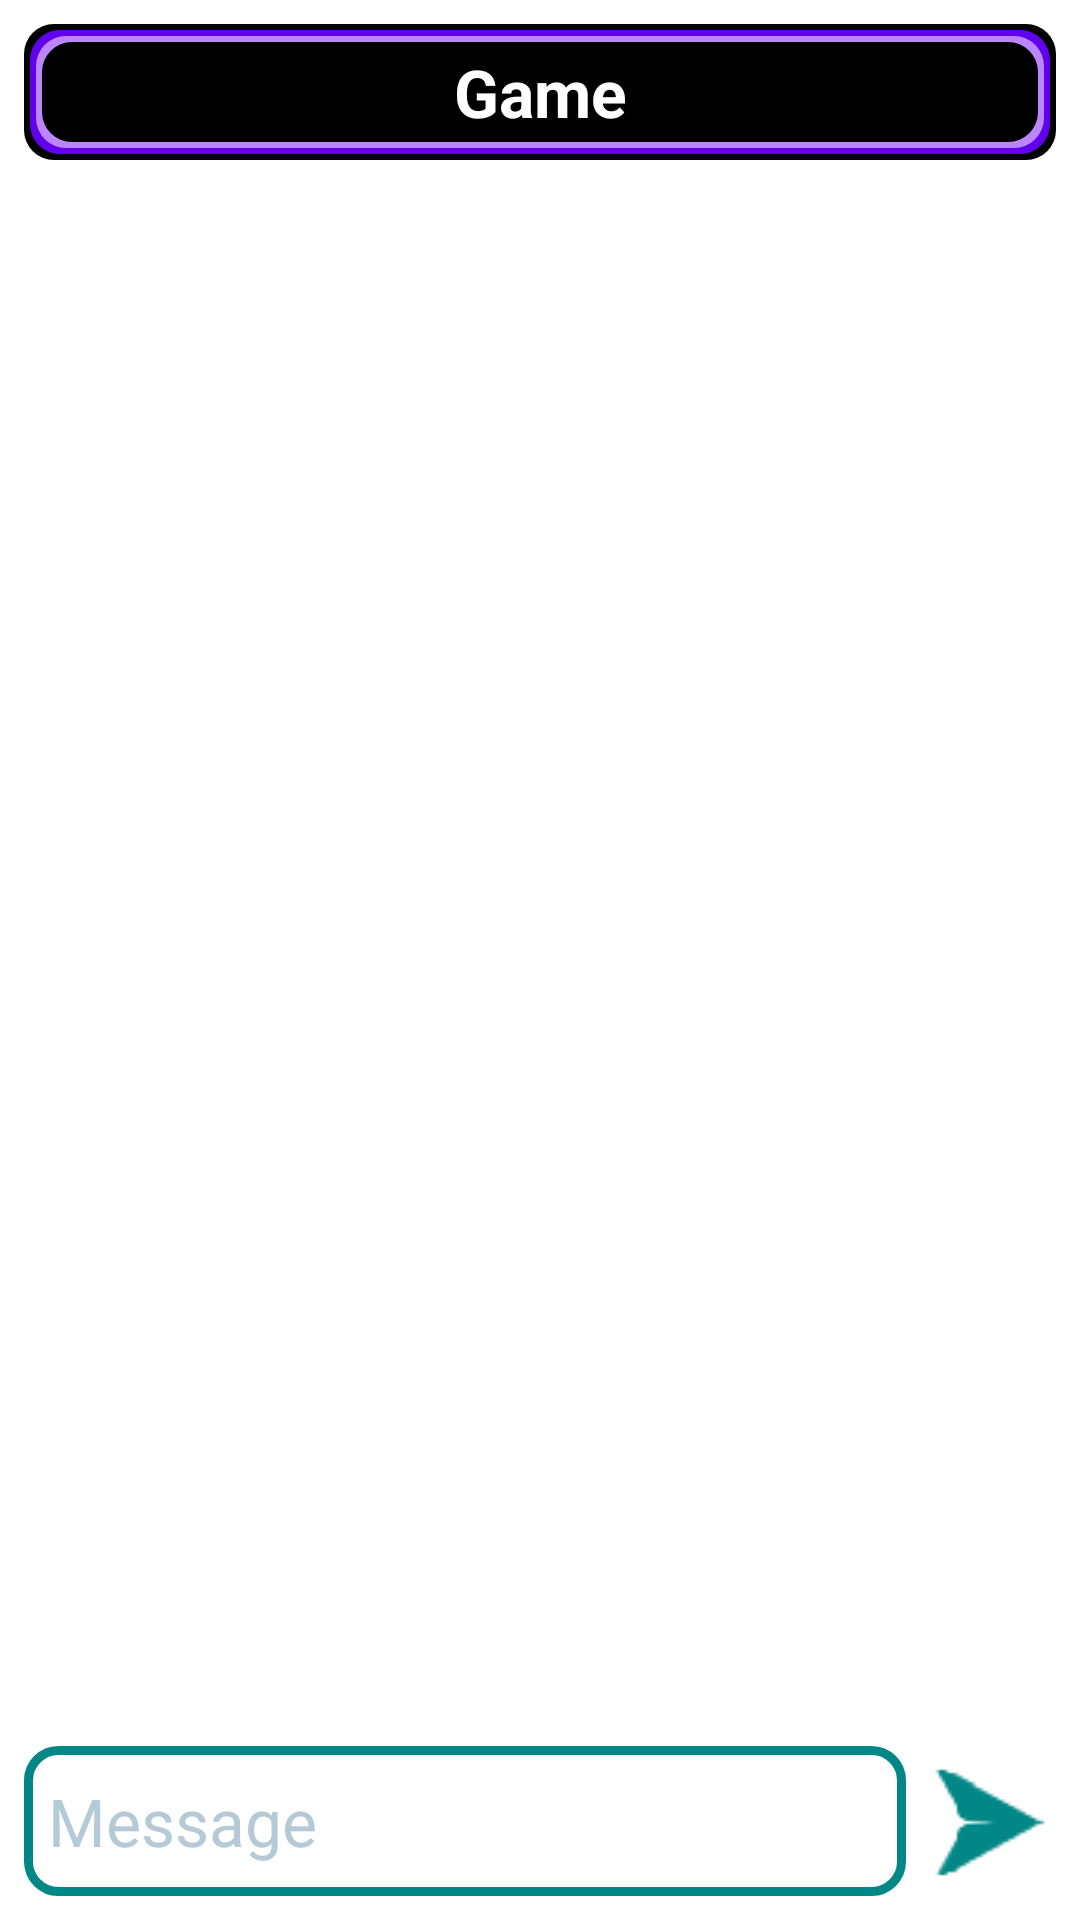

Icons on this 1080 x 1920 Android screen, each with the point to tap as point (x, y):
send: point (990, 1822)
